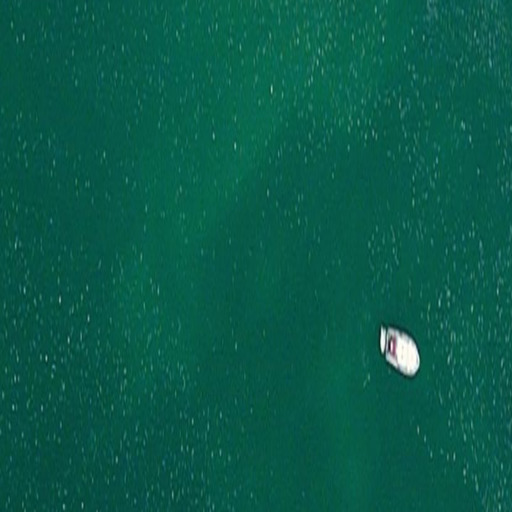ship: (377, 323, 422, 380)
